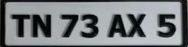3: (80, 13, 101, 39)
5: (156, 11, 177, 39)
7: (60, 12, 79, 40)
A: (107, 13, 127, 39)
N: (30, 12, 54, 40)
T: (9, 13, 32, 39)
X: (126, 11, 148, 38)
